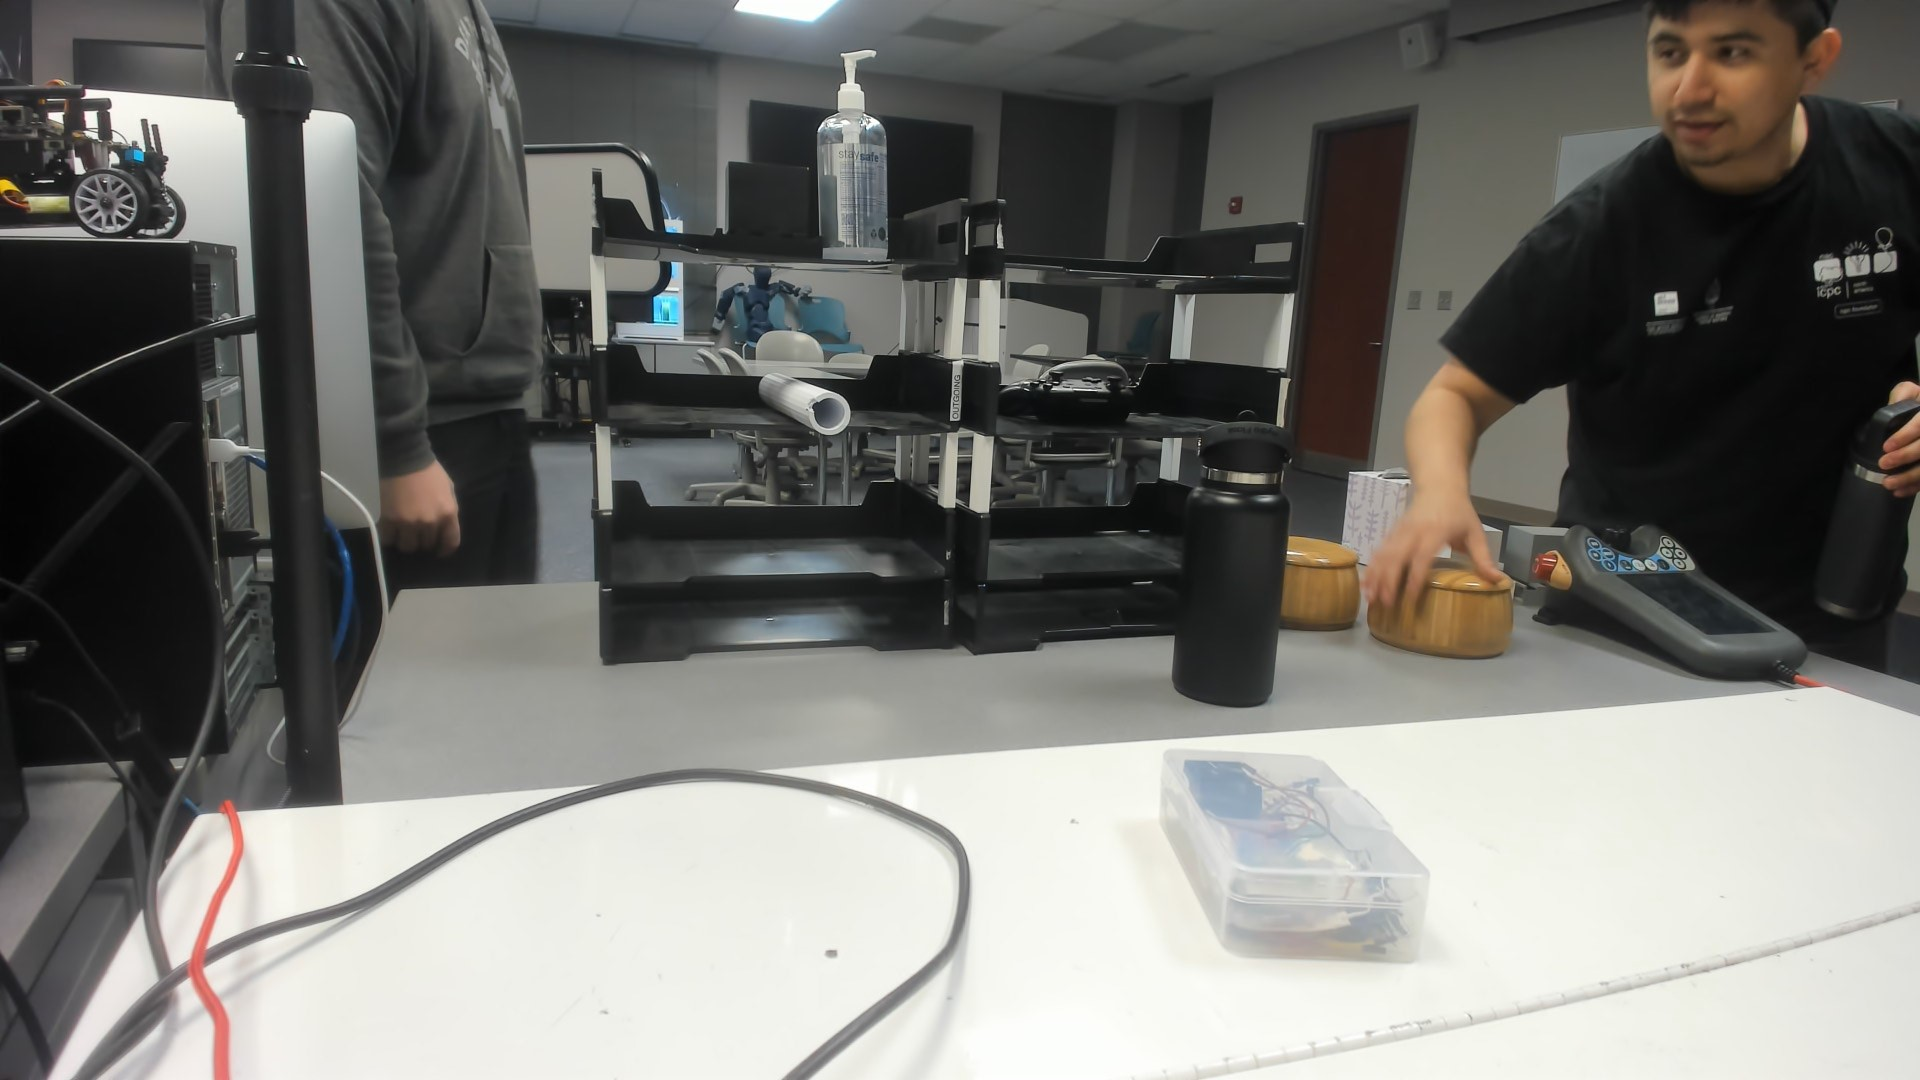black pallet: (705, 158, 829, 262)
grey pallet: (1505, 520, 1569, 599)
